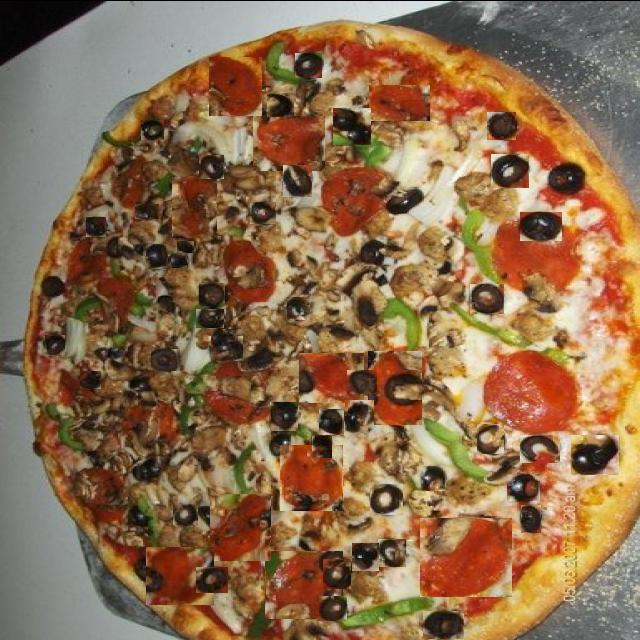olive: (571, 434, 619, 474), (333, 107, 371, 144), (384, 368, 422, 402), (491, 153, 529, 187), (520, 211, 562, 240), (549, 161, 585, 194), (423, 610, 464, 638), (520, 434, 560, 462), (211, 328, 243, 360), (370, 483, 403, 514), (470, 283, 504, 313), (385, 186, 424, 212), (345, 399, 374, 432), (283, 163, 312, 196), (507, 473, 540, 500), (323, 558, 351, 588), (196, 566, 228, 592), (487, 111, 516, 139), (270, 401, 298, 430), (477, 423, 504, 453), (378, 538, 406, 566), (352, 542, 379, 570), (319, 595, 347, 620), (348, 369, 377, 393), (132, 457, 161, 481), (295, 52, 322, 77), (319, 408, 344, 434), (267, 92, 294, 116), (421, 465, 446, 490), (152, 348, 180, 370), (360, 239, 384, 264), (199, 154, 224, 178), (199, 282, 225, 305), (288, 294, 312, 318), (250, 201, 276, 223), (521, 504, 541, 532), (146, 243, 168, 268), (196, 308, 224, 327), (173, 503, 198, 524), (270, 432, 292, 455), (312, 434, 332, 457), (141, 119, 164, 139), (42, 276, 64, 296), (86, 216, 106, 236), (45, 334, 65, 354), (80, 370, 101, 388), (135, 203, 159, 218), (106, 235, 123, 256), (130, 505, 146, 527), (129, 375, 151, 390), (171, 252, 187, 267), (178, 240, 195, 252)
pepperoni: (480, 349, 580, 432), (420, 517, 512, 596), (494, 218, 582, 293), (265, 550, 343, 618), (320, 164, 392, 236), (280, 444, 343, 510), (210, 493, 271, 560), (368, 350, 422, 424), (253, 115, 325, 170), (146, 546, 214, 604), (220, 237, 276, 300), (73, 464, 132, 520), (300, 352, 366, 402), (210, 56, 264, 115), (172, 175, 217, 237), (369, 84, 430, 120)
pizza: (20, 20, 640, 640)
